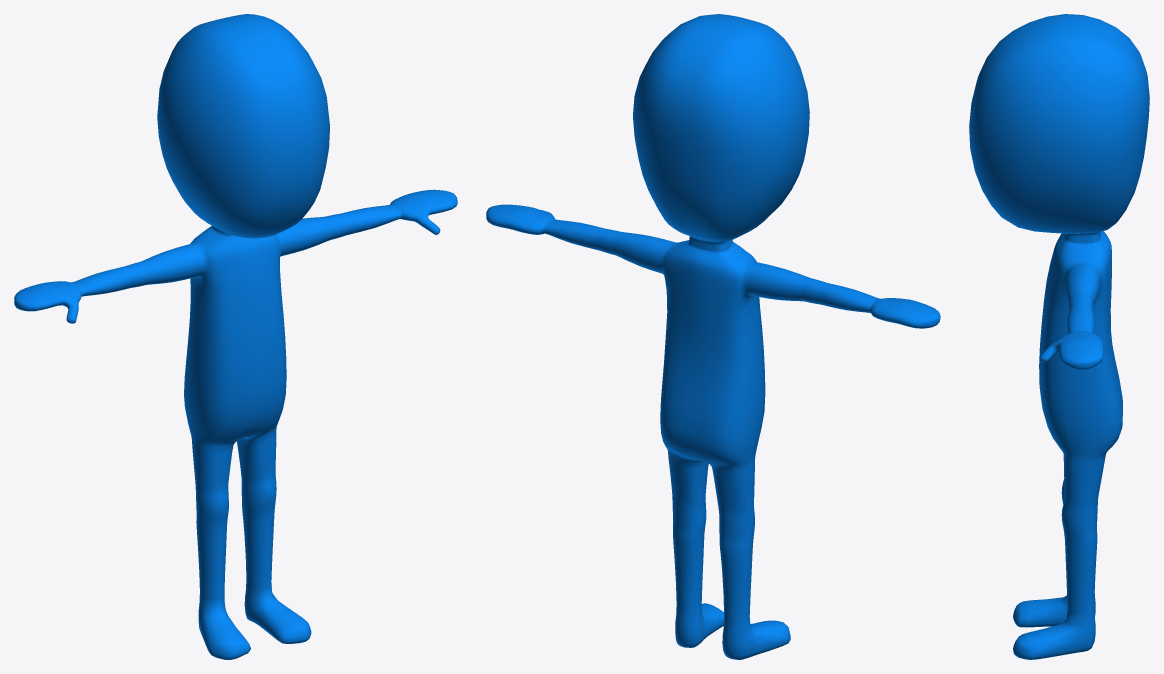
File: BlueGuy.fbx
3 views of the same model, side by side, from view 1: azimuth 30°, elevation 25°; view 2: azimuth 150°, elevation 25°; view 3: azimuth 270°, elevation 25° (orthographic). The views are drawn at different scales.
Parts seen in each view (by area): view 1: Human; view 2: Human; view 3: Human.
Part boxes in pixels (x1,y1,x2,y2): Human: (14, 14, 457, 659); Human: (486, 14, 940, 659); Human: (969, 14, 1149, 659).
Bounding box in the file's own units: 135 × 179 × 47.81.
